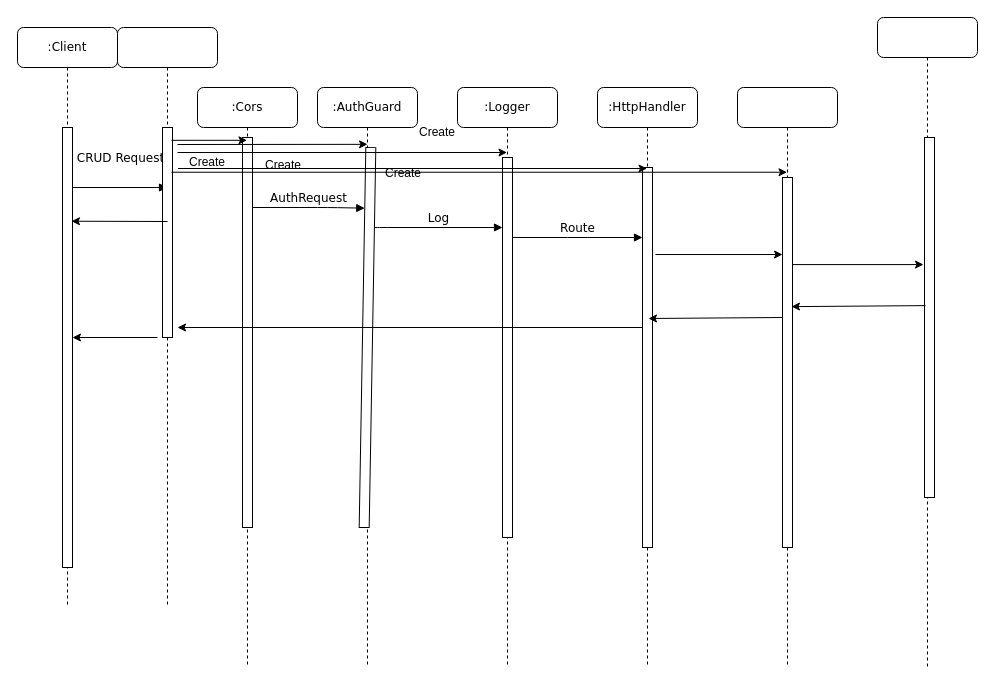
Some shapes in this 995 by 685 pixel diagram are drawn without their labels. Each missing label, with the box of its shape:
:DB: (876, 16, 978, 668)
:DBSession: (736, 86, 838, 668)
:RESTApi: (116, 26, 218, 608)
